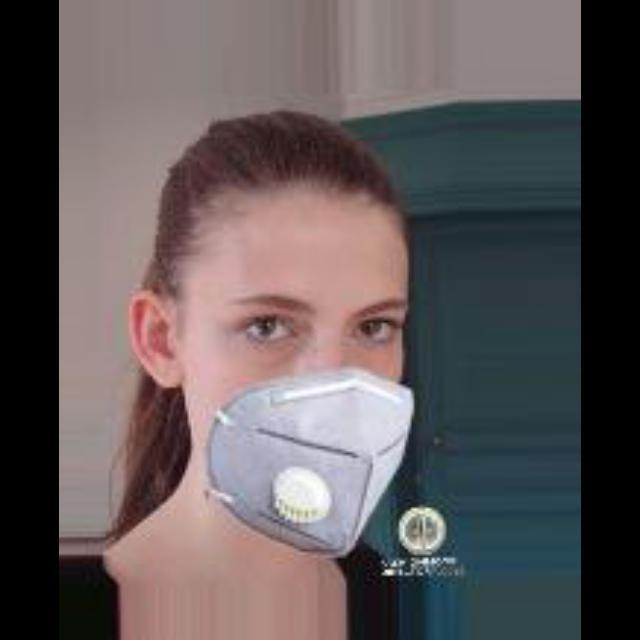suspicion: (146, 137, 454, 548)
